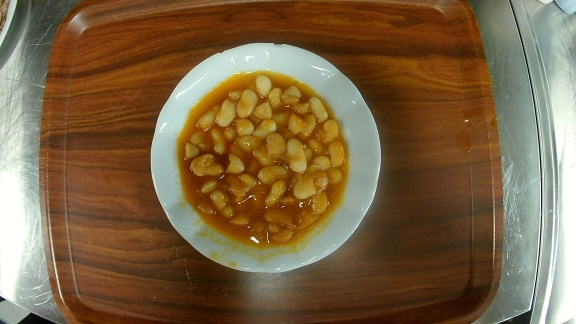kurufasulye: (150, 42, 382, 276)
